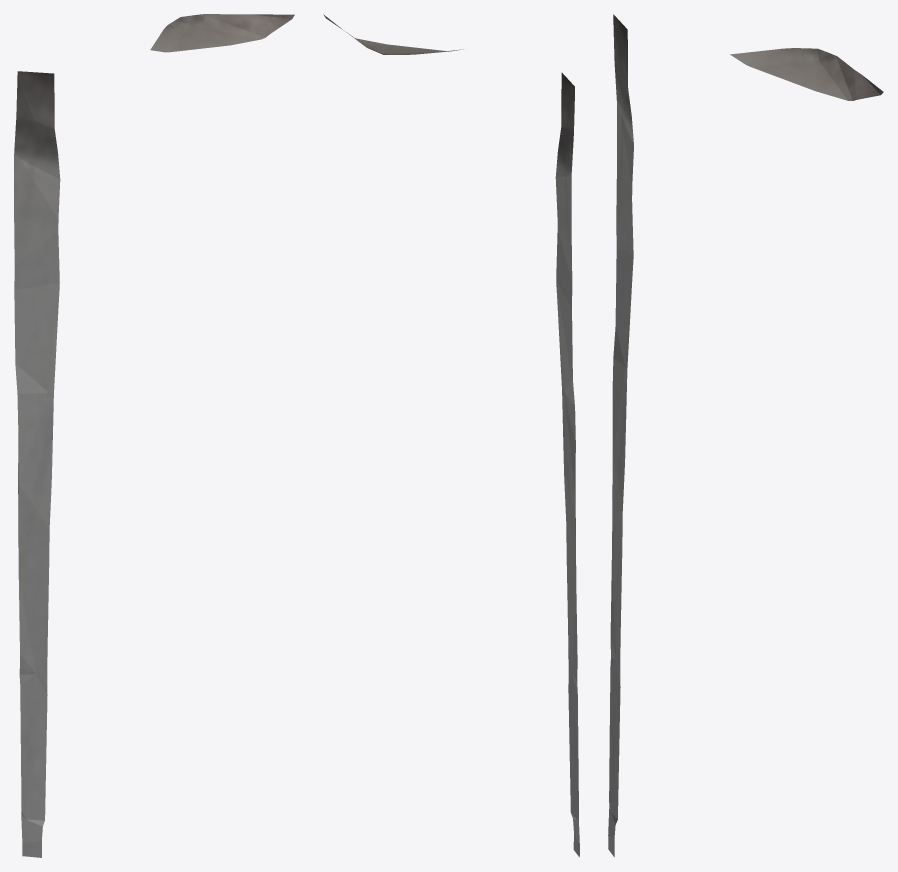
3 renders of one model, left to right at view 1: azimuth 30°, elevation 25°; view 2: azimuth 150°, elevation 25°; view 3: azimuth 330°, elevation 25°, orthographic. The views are drawn at different scales.
Bounding box in the file's own units: 0.2981 × 0.8374 × 0.0511.
Materials: 1 (1 with a texture image).
